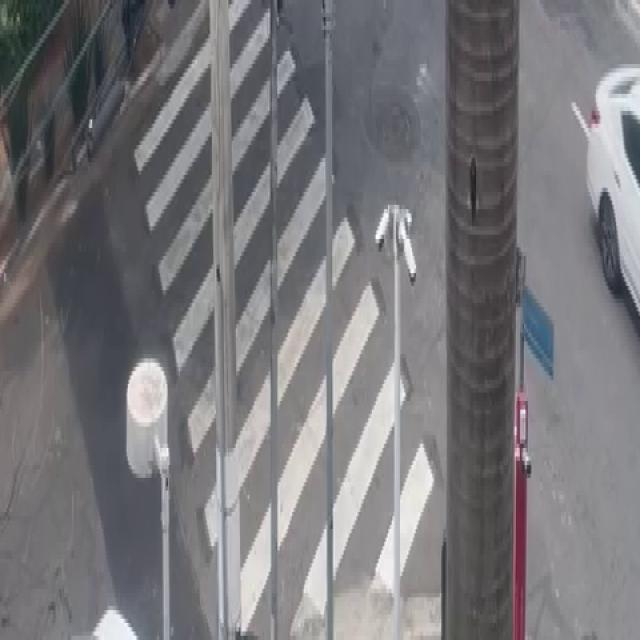car: (581, 56, 640, 294)
